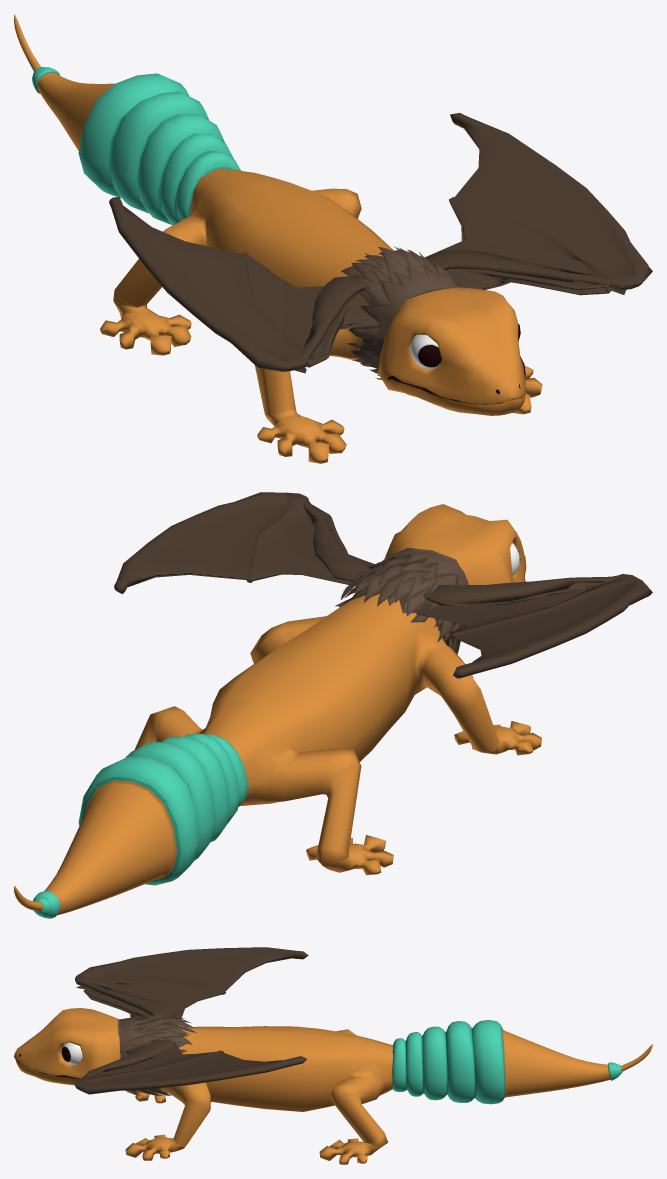
Rendered from yamori_transform.fbx.
The picture shows the model from 3 angles, top to bottom: view 1: azimuth 30°, elevation 25°; view 2: azimuth 150°, elevation 25°; view 3: azimuth 270°, elevation 25°; orthographic projection. The views are drawn at different scales.
Parts seen in each view (by area): view 1: yamori_transform; view 2: yamori_transform; view 3: yamori_transform.
Part boxes in pixels (x1,y1,x2,y2): yamori_transform: [14, 14, 652, 463]; yamori_transform: [14, 492, 652, 918]; yamori_transform: [14, 947, 652, 1164].
Size of the model in its own units: 92.02 by 39.83 by 189.
